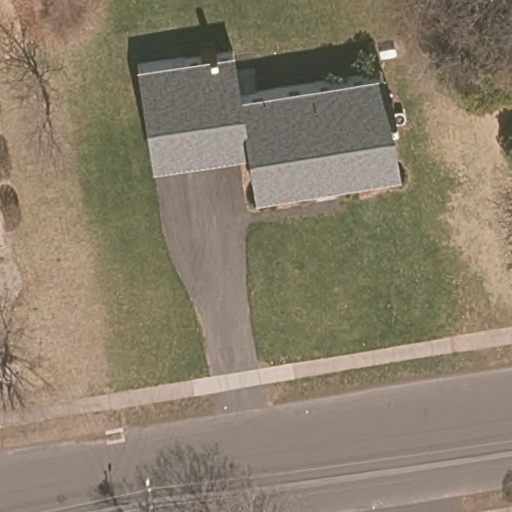DT: (141, 478, 157, 512)
